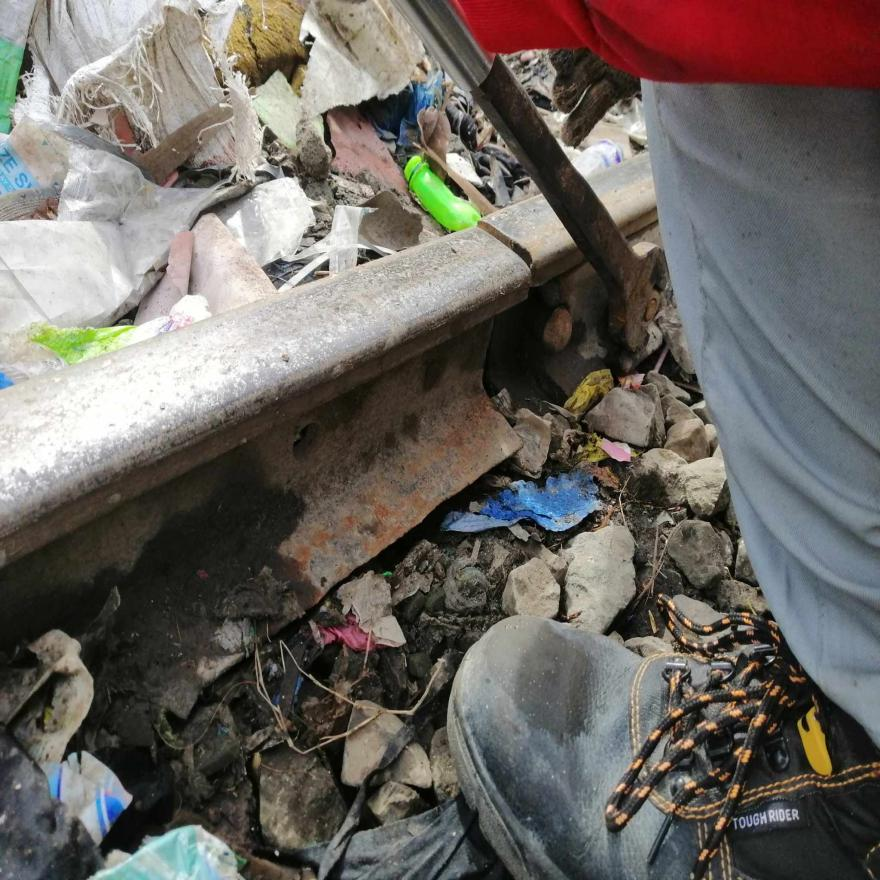railway-gap: (464, 194, 546, 290)
